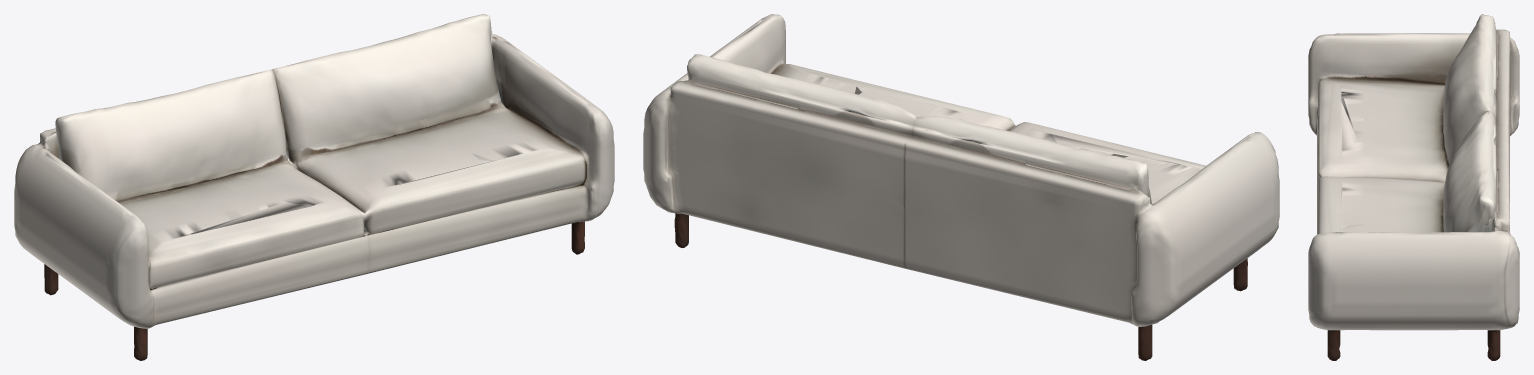
Rendered from cream_velvet_sofa_0428035408_texture.glb.
The picture shows the model from 3 angles, left to right: view 1: azimuth 30°, elevation 25°; view 2: azimuth 150°, elevation 25°; view 3: azimuth 270°, elevation 25°; orthographic projection. The views are drawn at different scales.
Parts seen in each view (by area): view 1: Mesh_0; view 2: Mesh_0; view 3: Mesh_0.
Part boxes in pixels (<box>): Mesh_0: <box>14,14,614,360</box>; Mesh_0: <box>643,14,1279,360</box>; Mesh_0: <box>1308,14,1519,360</box>.
Bounding box in the file's own units: 2.38 × 0.8128 × 0.9744.
1 material, 1 textured.
